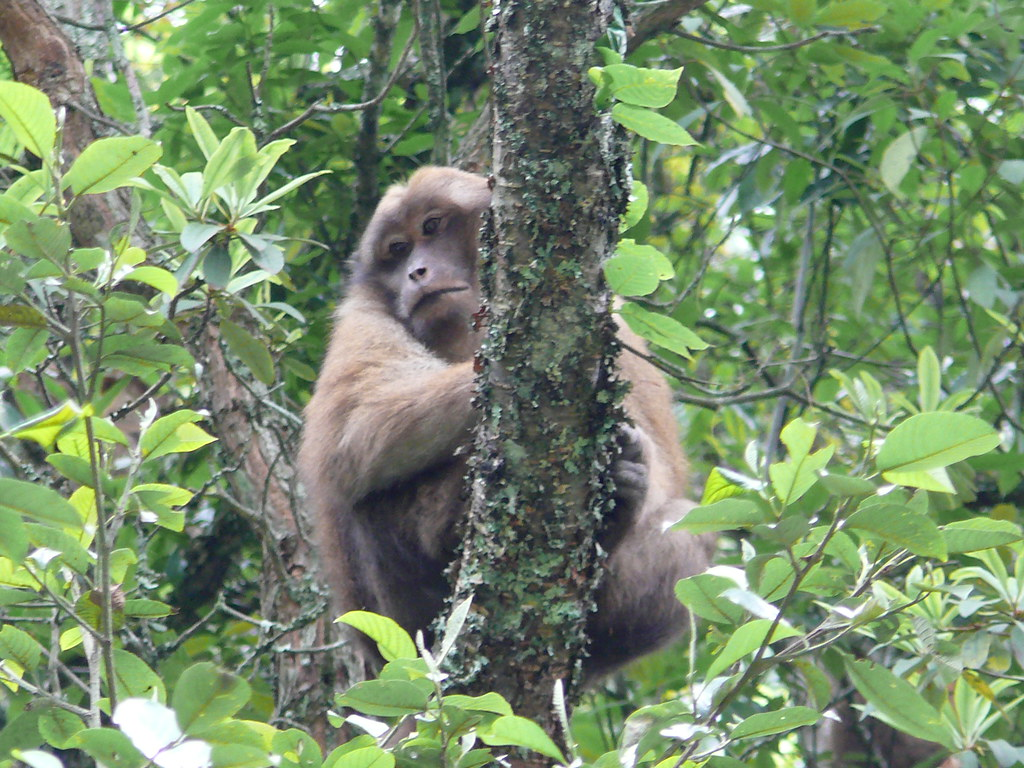monkey: (288, 137, 751, 697)
